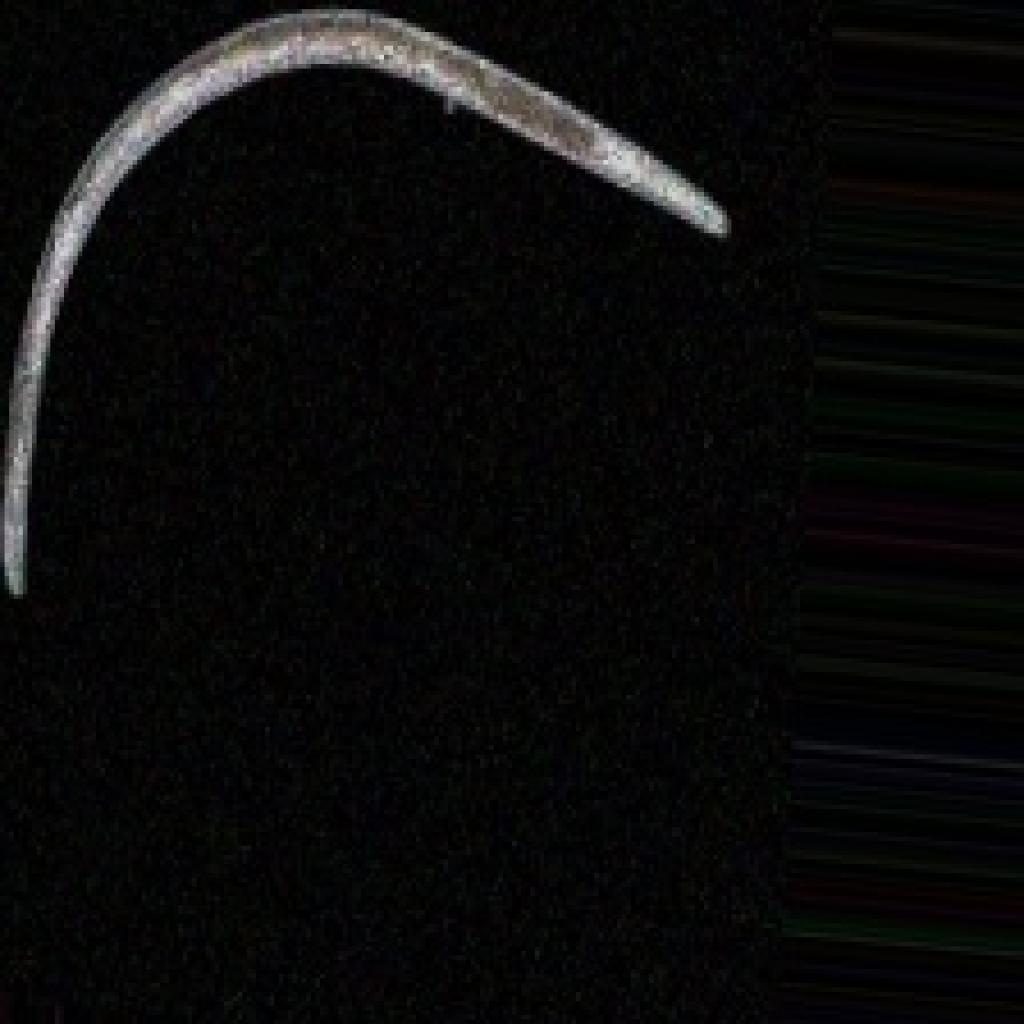Nematode: (0, 0, 736, 599)
